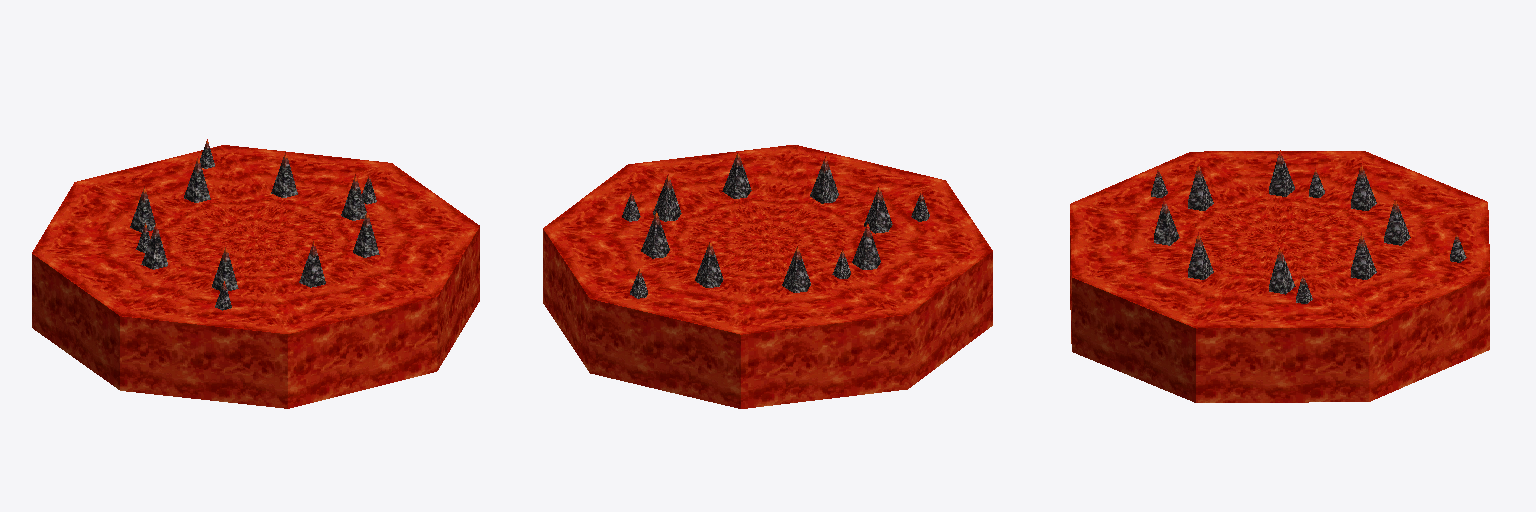
The picture shows the model from 3 angles: view 1: azimuth 30°, elevation 25°; view 2: azimuth 150°, elevation 25°; view 3: azimuth 270°, elevation 25°; orthographic projection.
Parts seen in each view (by area): view 1: r0; view 2: r0; view 3: r0.
Boxes of the visible parts, x1=… form: r0: x1=32, y1=139, x2=479, y2=408; r0: x1=543, y1=145, x2=992, y2=408; r0: x1=1070, y1=150, x2=1489, y2=402.
Size of the model in its own units: 12.78 by 3.9 by 12.78.
2 materials, 2 textured.